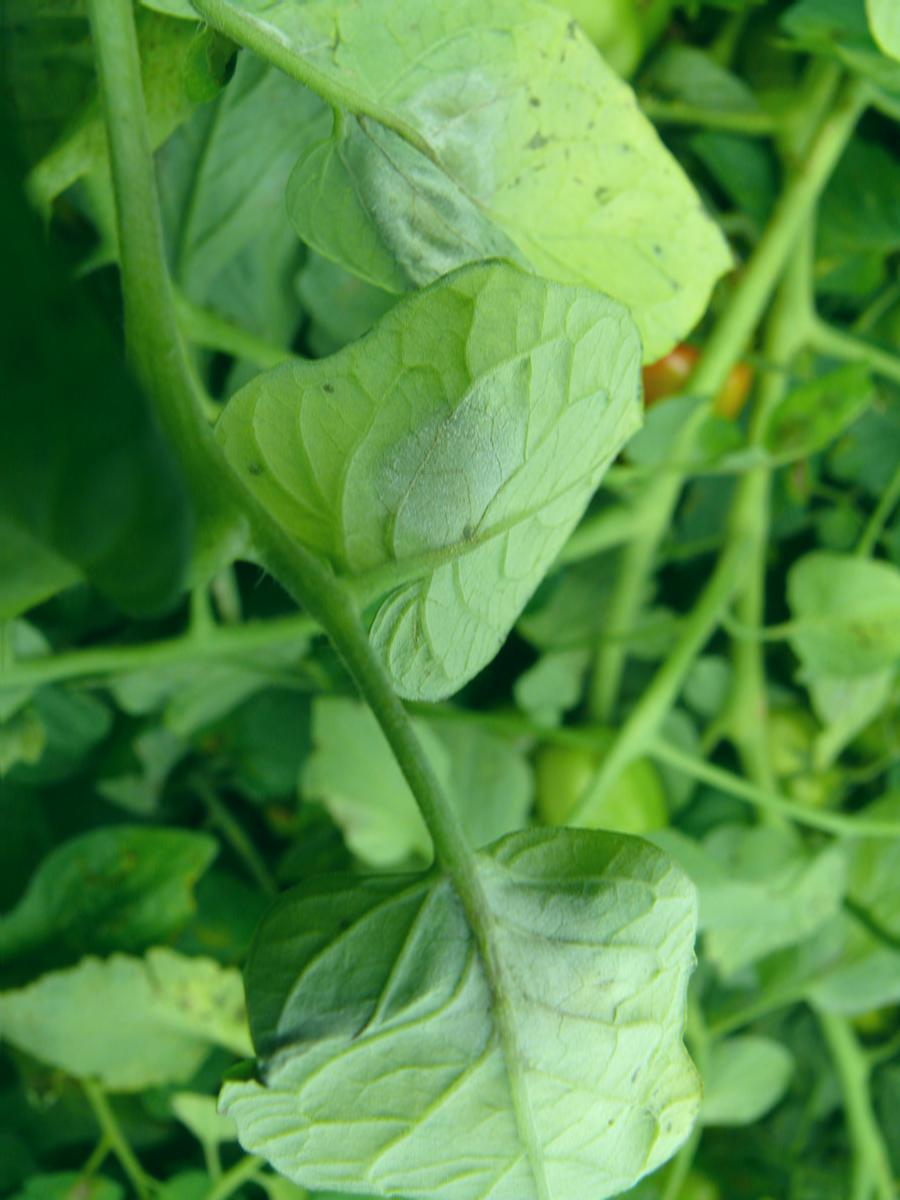Tomato leaf late blight: (224, 8, 767, 375), (194, 830, 725, 1197), (207, 276, 641, 712)
